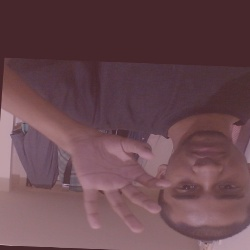hand: (67, 129, 172, 242)
